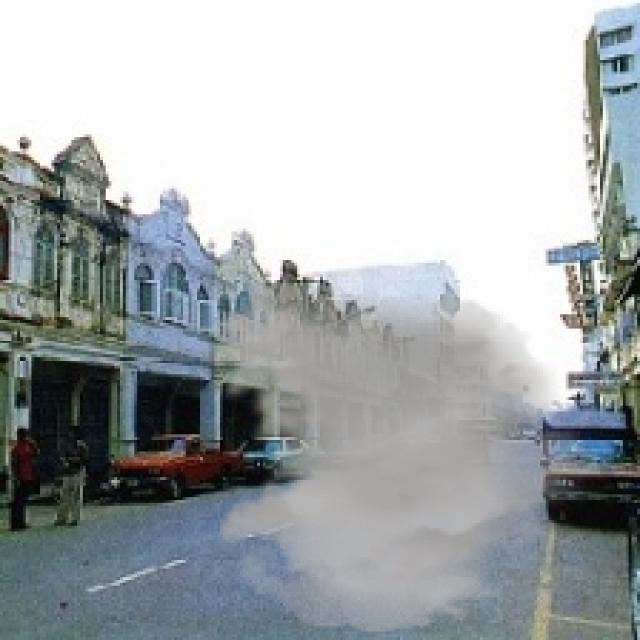smoke: (206, 280, 611, 631)
